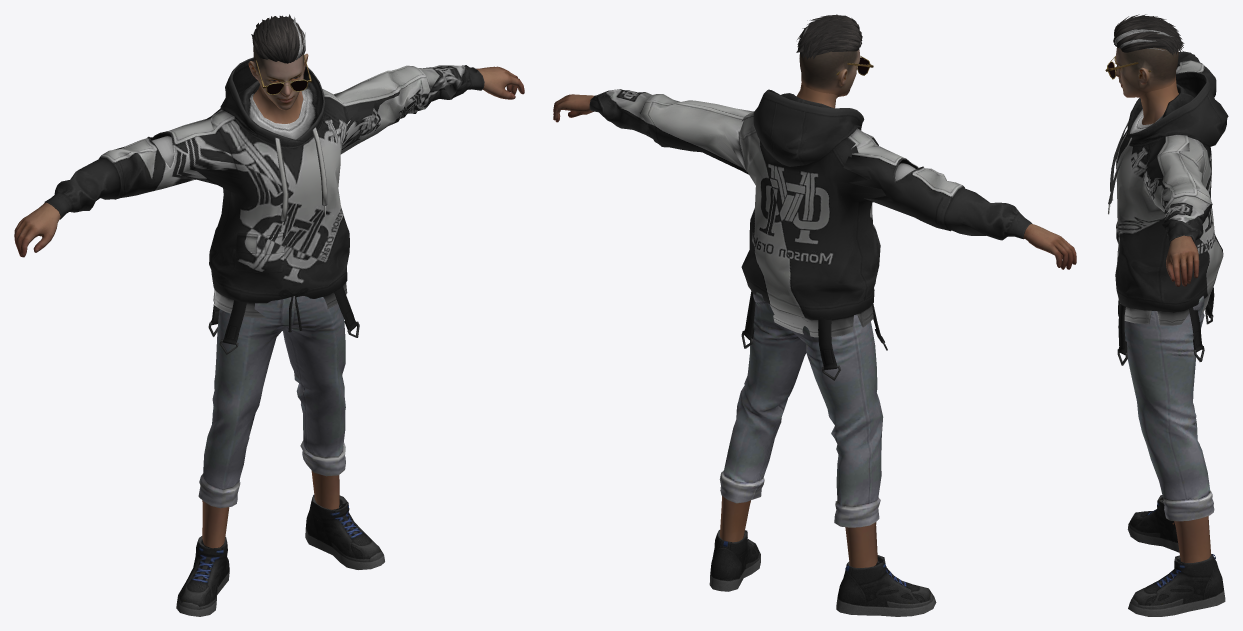
Rendered from men.glb.
3 renders of one model, left to right at view 1: azimuth 30°, elevation 25°; view 2: azimuth 150°, elevation 25°; view 3: azimuth 270°, elevation 25°, orthographic. The views are drawn at different scales.
Visible parts, largest first — view 1: Object_5, Object_6, Object_8, Object_7, Object_3; view 2: Object_5, Object_6, Object_8, Object_7, Object_3; view 3: Object_5, Object_6, Object_8, Object_7, Object_3.
Boxes of the visible parts, x1,y1,x2,y2 form: Object_5: (44,57,484,354); Object_6: (198,296,345,508); Object_8: (14,47,524,548); Object_7: (176,495,384,616); Object_3: (251,14,305,63); Object_5: (589,89,1032,380); Object_6: (719,292,883,527); Object_8: (553,49,1076,567); Object_7: (709,530,936,616); Object_3: (796,14,862,59); Object_5: (1108,51,1228,365); Object_6: (1124,296,1214,521); Object_8: (1115,34,1211,562); Object_7: (1127,495,1225,616); Object_3: (1113,14,1184,55).
Bounding box in the file's own units: 0.8268 × 0.88 × 0.1763.
Materials: 7 (7 with a texture image).
